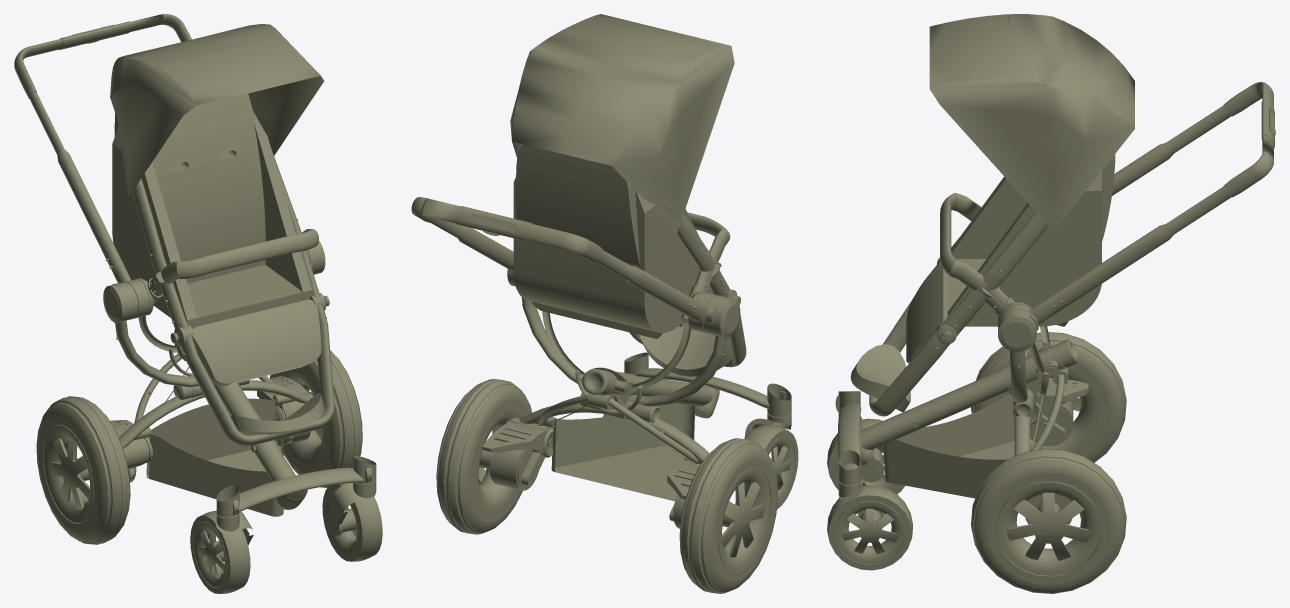
3 renders of one model, left to right at view 1: azimuth 30°, elevation 25°; view 2: azimuth 150°, elevation 25°; view 3: azimuth 270°, elevation 25°, orthographic. The views are drawn at different scales.
Parts seen in each view (by area): view 1: material_11_8, material_5_8, material_2_8 (×6), material_7_8 (×2), material_7_0 (×4), material_1_8 (×7), material_4_1_8, material_8_8 (×4), material_12_8 (×2), material_4_1_0, material_1_0 (×3), material_6_8 (+3 smaller); view 2: material_5_8, material_11_8, material_7_8 (×2), material_1_8 (×6), material_4_1_8, material_2_8 (×7), material_7_0 (×3), material_8_8 (×3), material_1_0, material_3_0, material_2_0 (×3), material_12_8 (+2 smaller); view 3: material_5_8, material_11_8, material_2_8 (×8), material_7_8 (×2), material_4_1_8, material_7_0 (×4), material_8_8 (×3), material_1_8 (×5), material_8_0 (×2), material_6_8, material_2_0, material_1_0 (×2) (+2 smaller).
Part boxes in pixels (x1,y1,x2,y2): material_11_8: (112, 93, 321, 385); material_5_8: (110, 24, 323, 196); material_2_8 (×6): (29, 91, 356, 508); material_7_8 (×2): (36, 350, 362, 544); material_7_0 (×4): (38, 366, 382, 593); material_1_8 (×7): (59, 21, 376, 531); material_4_1_8: (146, 400, 283, 516); material_8_8 (×4): (43, 369, 358, 586); material_12_8 (×2): (14, 14, 311, 278); material_4_1_0: (146, 398, 272, 475); material_1_0 (×3): (231, 393, 375, 536); material_6_8: (110, 83, 290, 149); material_5_8: (510, 14, 734, 233); material_11_8: (513, 144, 712, 338); material_7_8 (×2): (436, 379, 777, 593); material_1_8 (×6): (455, 206, 791, 528); material_4_1_8: (551, 403, 695, 501); material_2_8 (×7): (430, 200, 767, 463); material_7_0 (×3): (470, 399, 798, 581); material_8_8 (×3): (475, 410, 794, 570); material_1_0: (639, 324, 732, 376); material_3_0: (522, 305, 725, 406); material_2_0 (×3): (542, 311, 704, 405); material_12_8: (411, 197, 594, 258); material_5_8: (929, 14, 1134, 230); material_11_8: (906, 154, 1115, 363); material_2_8 (×8): (838, 105, 1231, 462); material_7_8 (×2): (971, 332, 1126, 593); material_4_1_8: (883, 394, 1014, 498); material_7_0 (×4): (827, 362, 1110, 585); material_8_8 (×3): (836, 370, 1099, 574); material_1_8 (×5): (838, 193, 1088, 497); material_8_0 (×2): (841, 492, 1090, 560); material_6_8: (988, 108, 1090, 182); material_2_0: (872, 370, 1009, 445); material_1_0 (×2): (850, 344, 1101, 576).
Size of the model in its own units: 0.6929 by 1.2 by 0.995.
